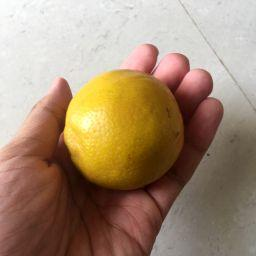Ripe: (65, 70, 179, 184)
